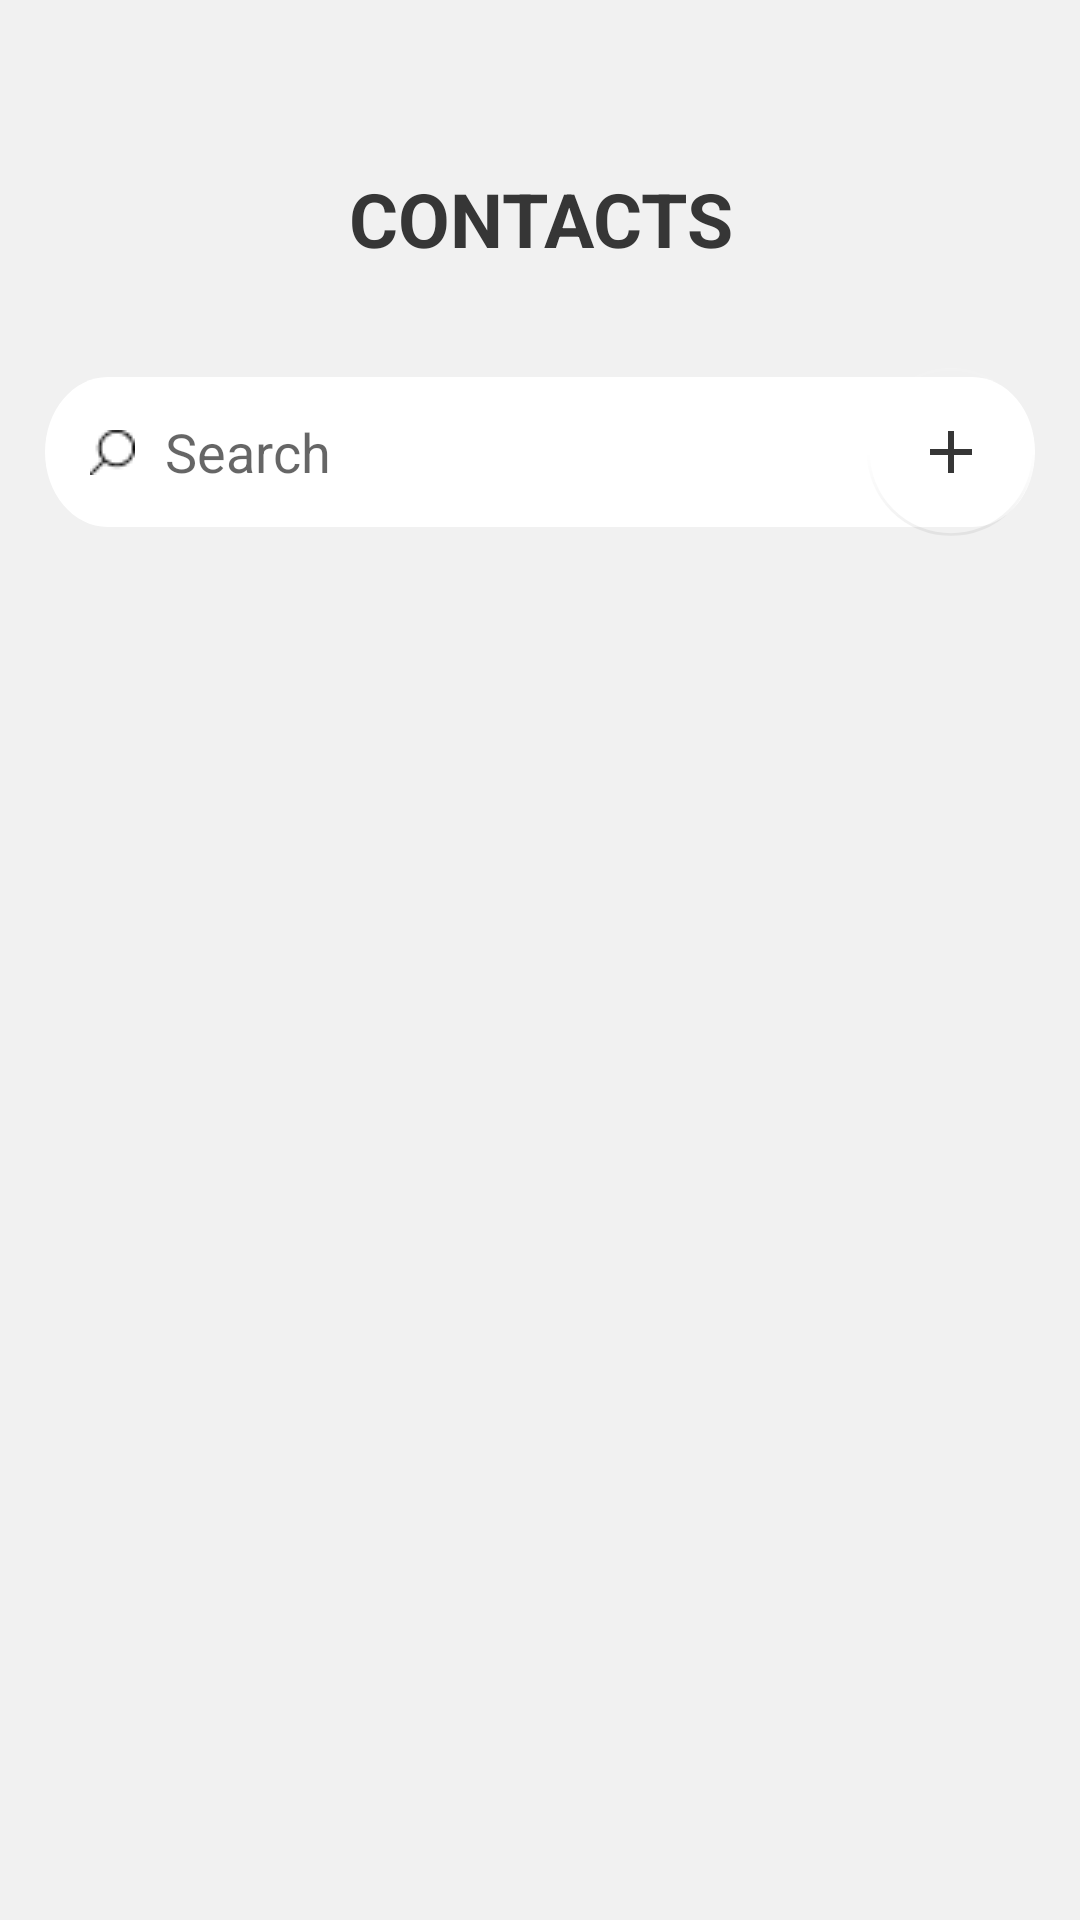

Where to tap for icons on this 1080*1920 app screen, as [x,y]:
add: [951,456]
